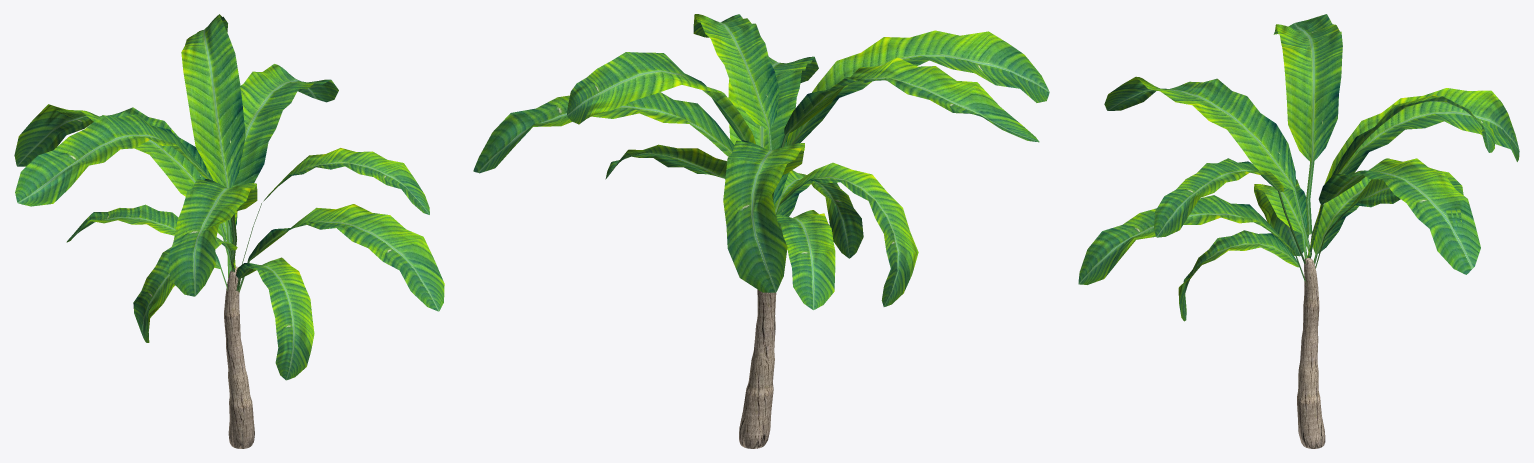
Rendered from Palm.obj.
The picture shows the model from 3 angles, left to right: view 1: azimuth 30°, elevation 25°; view 2: azimuth 150°, elevation 25°; view 3: azimuth 270°, elevation 25°; orthographic projection. The views are drawn at different scales.
Size of the model in its own units: 34.48 by 30.93 by 33.08.
